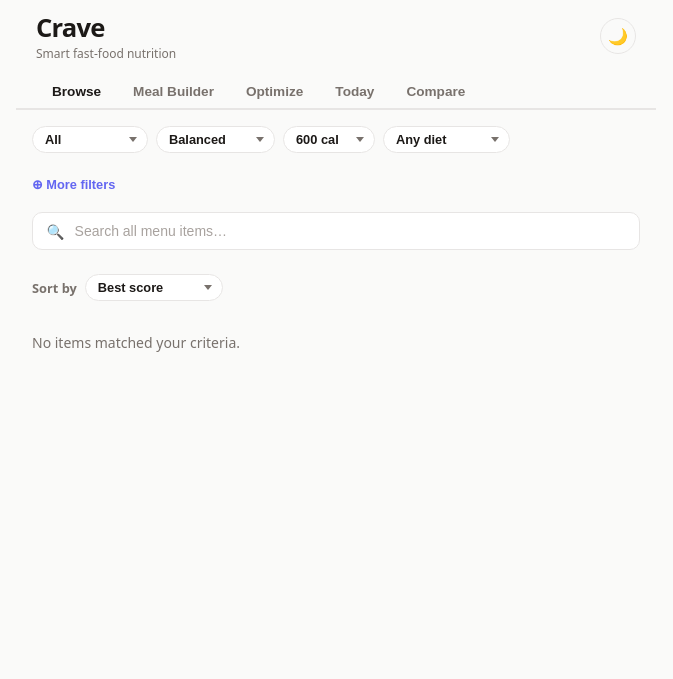
Scenario: App smoke — tabs and navigation › switches to Today and shows targets + weekly history
The image size is (673, 679).
Click the tab "Today". click: (355, 92)
box: [319,74,390,110]
(page scrolled)
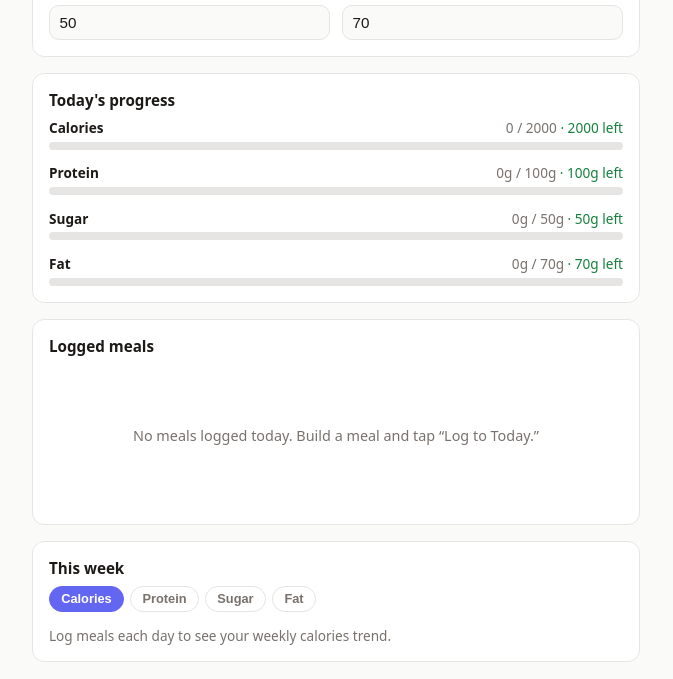
Expected: the heading "This week" is shown, [49,558,124,578]
